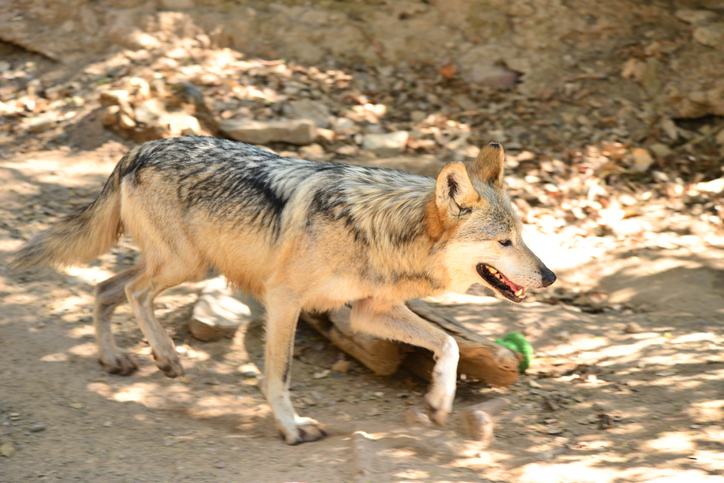Lobo: (52, 101, 570, 445)
